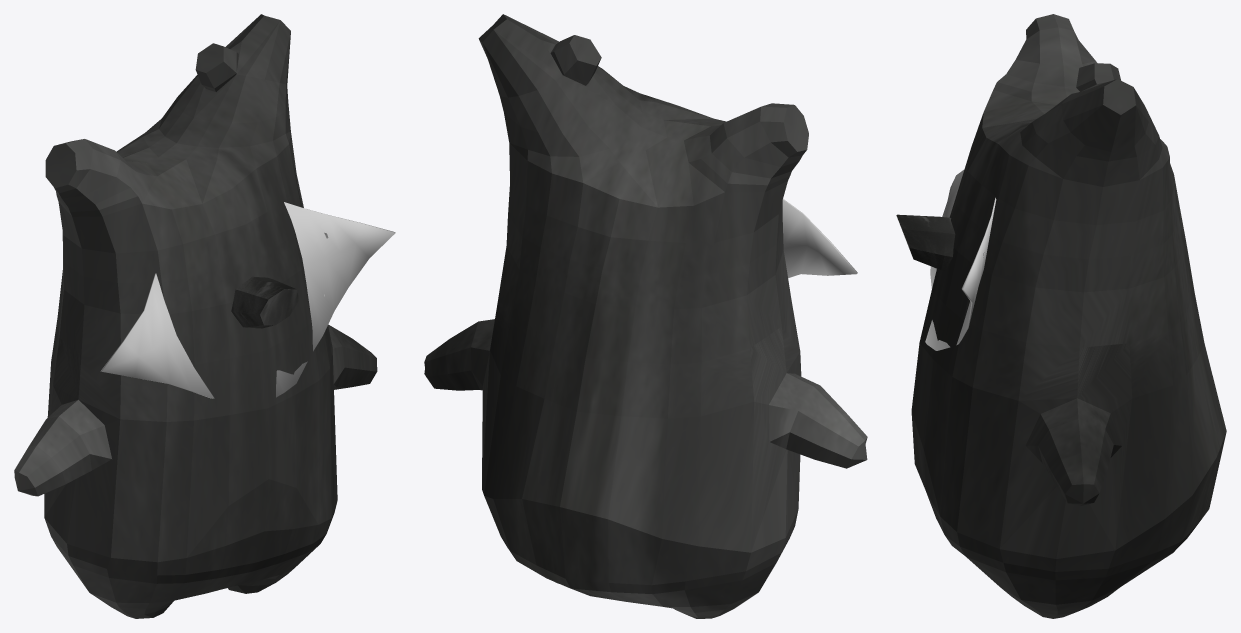
File: frame_0017.obj
3 renders of one model, left to right at view 1: azimuth 30°, elevation 25°; view 2: azimuth 150°, elevation 25°; view 3: azimuth 270°, elevation 25°, orthographic. The views are drawn at different scales.
Visible parts, largest first — view 1: korok, leaf, nose; view 2: korok, leaf; view 3: korok, nose, leaf.
Part boxes in pixels (x1,y1,x2,y2): korok: (14,14,377,618); leaf: (100,202,395,398); nose: (231,276,298,328); korok: (424,14,867,618); leaf: (782,199,857,278); korok: (911,14,1226,618); nose: (896,214,955,271); leaf: (925,170,996,350).
Bounding box in the file's own units: 1.7 × 2.28 × 1.22.
